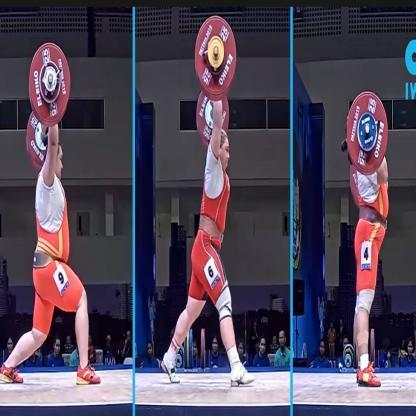barbell: (25, 42, 72, 173), (193, 15, 238, 148), (344, 89, 390, 177)
